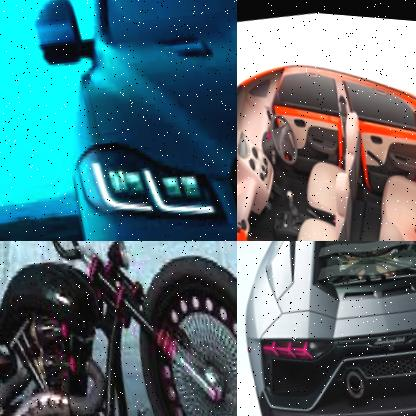bike: (0, 241, 237, 416)
car: (12, 0, 237, 241), (237, 20, 416, 241), (237, 241, 416, 416)
